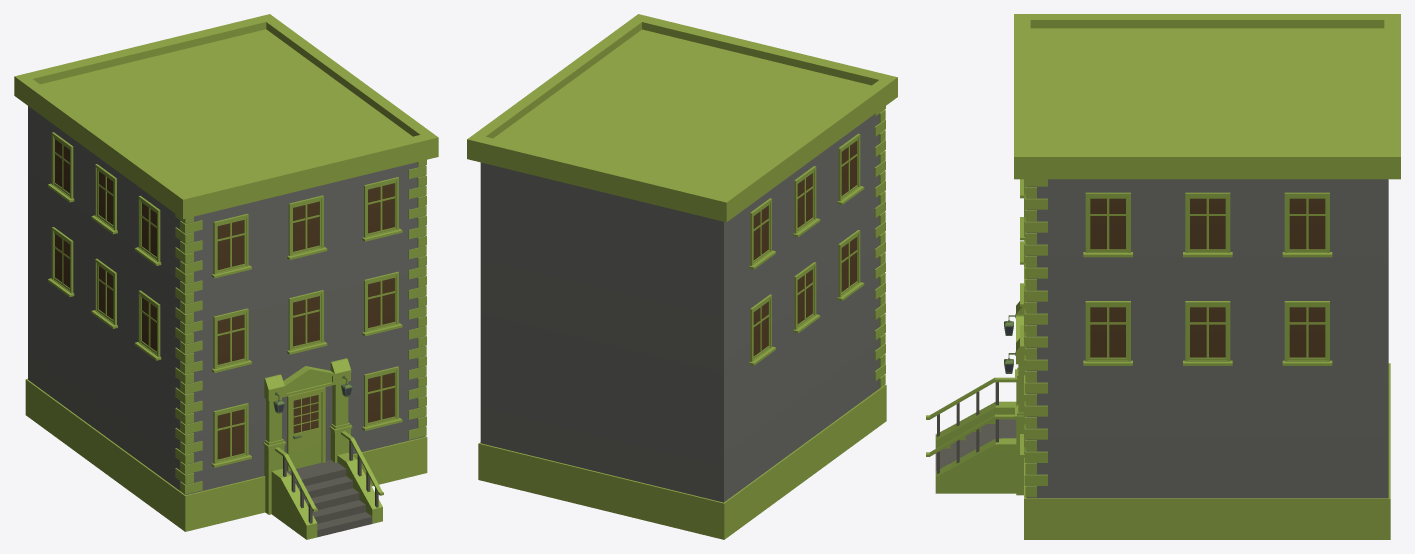
Rendered from House_20.fbx.
3 views of the same model, side by side, from view 1: azimuth 30°, elevation 25°; view 2: azimuth 150°, elevation 25°; view 3: azimuth 270°, elevation 25° (orthographic). The views are drawn at different scales.
Visible parts, largest first — view 1: House_20; view 2: House_20; view 3: House_20.
Boxes of the visible parts, bbox=[...] form: House_20: bbox=[14, 14, 438, 539]; House_20: bbox=[467, 14, 897, 539]; House_20: bbox=[926, 14, 1400, 539].
Size of the model in its own units: 7.47 by 9.42 by 10.48.
